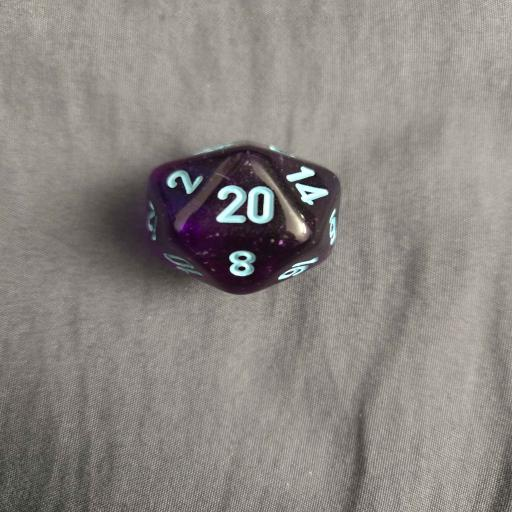twenty sided dice: (146, 140, 342, 296)
